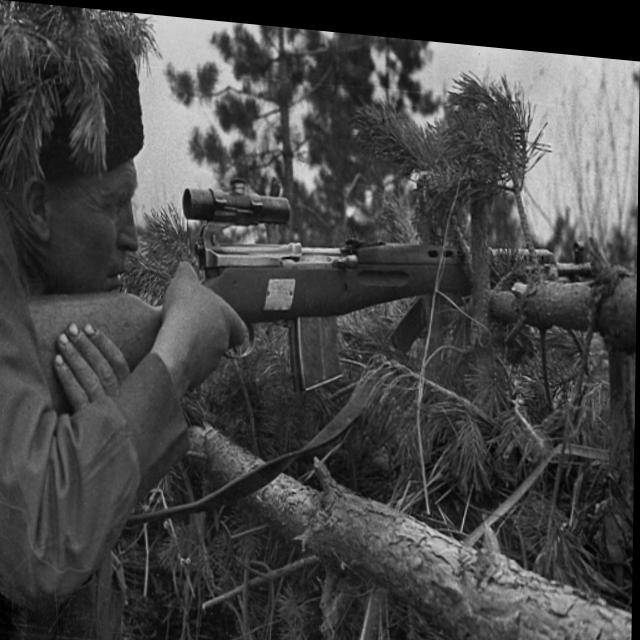other: (0, 0, 252, 619)
